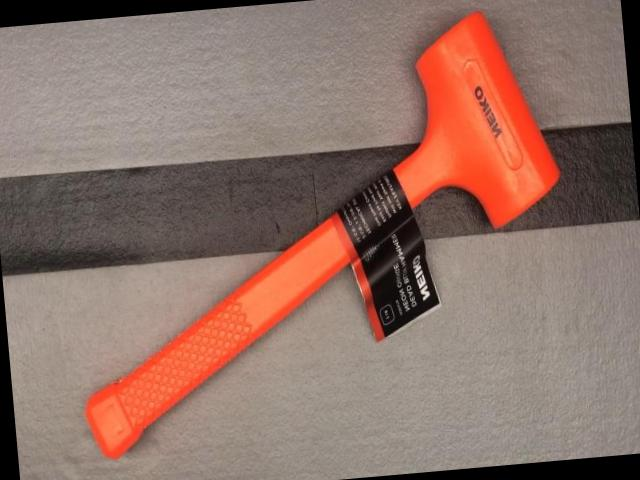hammer: (53, 6, 584, 460)
